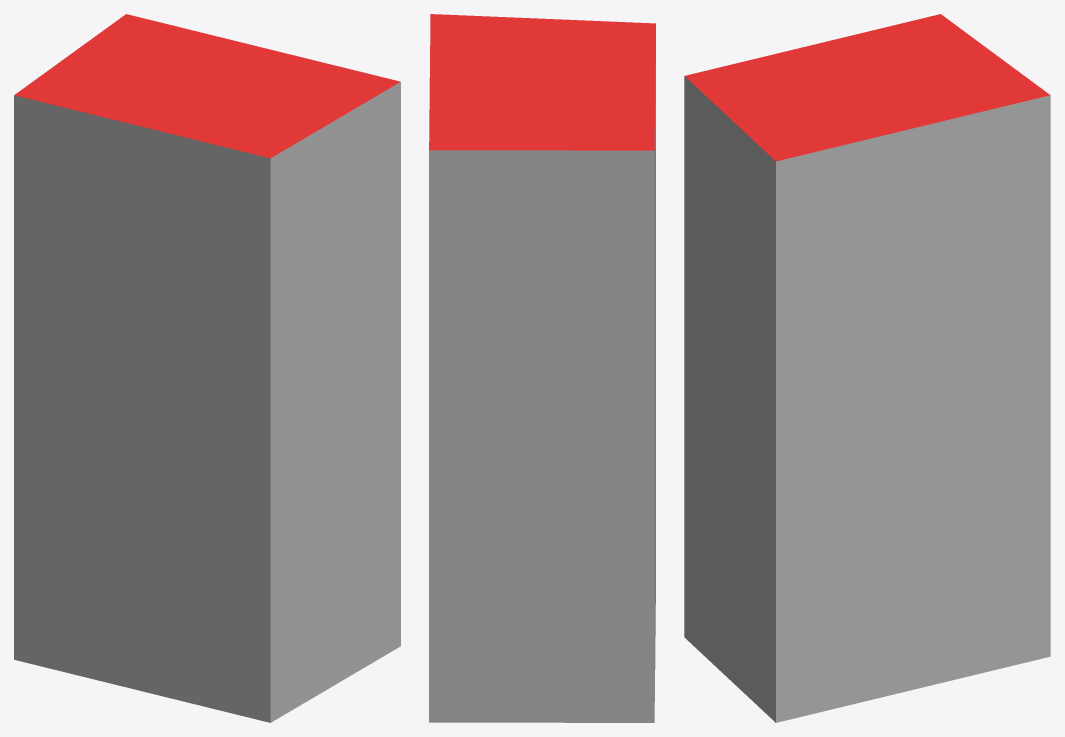
3 renders of one model, left to right at view 1: azimuth 30°, elevation 25°; view 2: azimuth 150°, elevation 25°; view 3: azimuth 270°, elevation 25°, orthographic.
Bounding box in the file's own units: 15.77 × 16.55 × 28.
